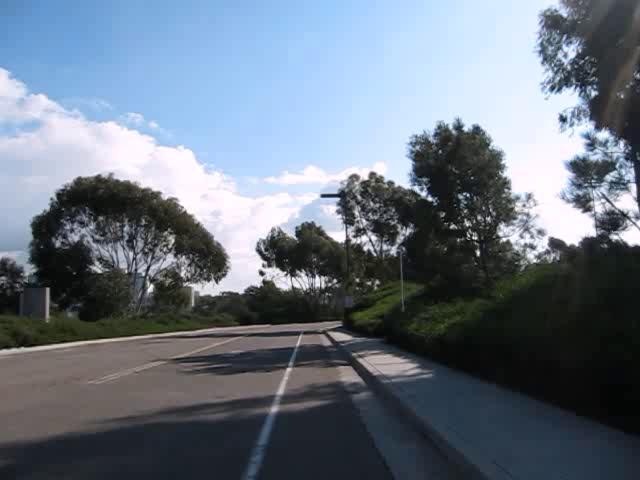speedLimitUrdbl: (343, 294, 354, 308)
